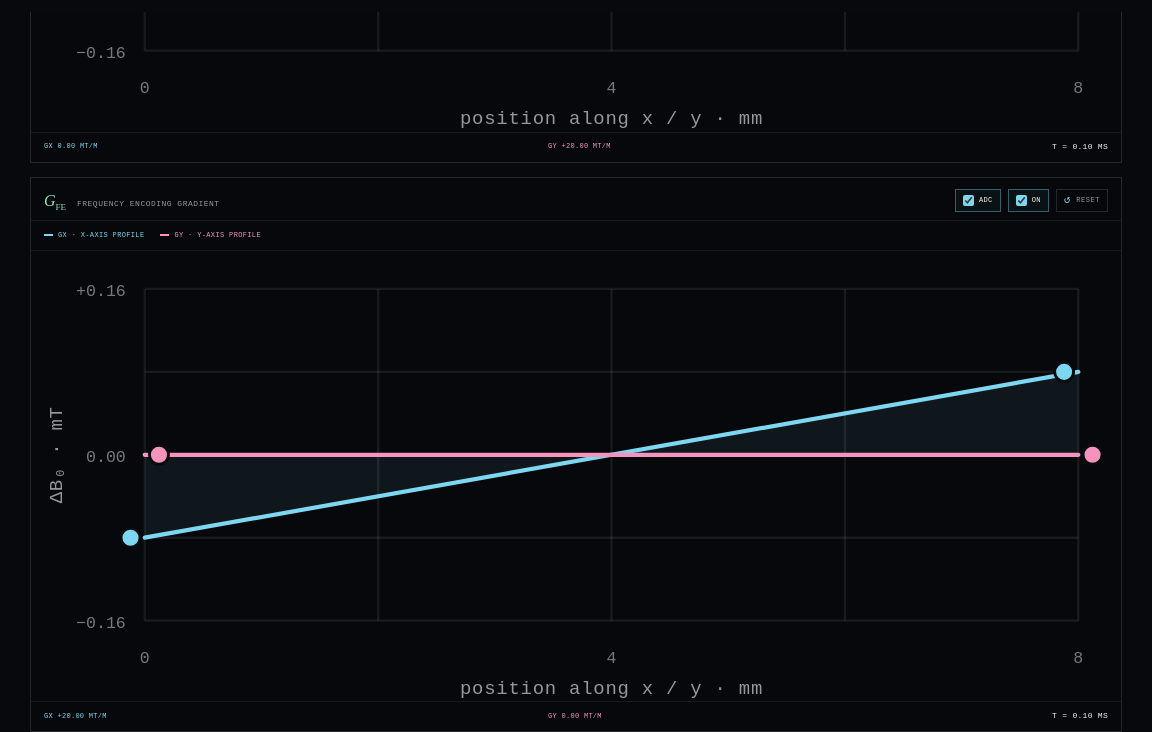
TwoDimensionalGradientEncodingExperimentPanel › resets the k-space trace and magnitude reconstruction independently
The image size is (1152, 732).
(page scrolled)
Press ArrowUp in the slider labelled "Frequency encoding G x gradient 8 millimeter endpoint", box [1038,346,1090,398]
(page scrolled)
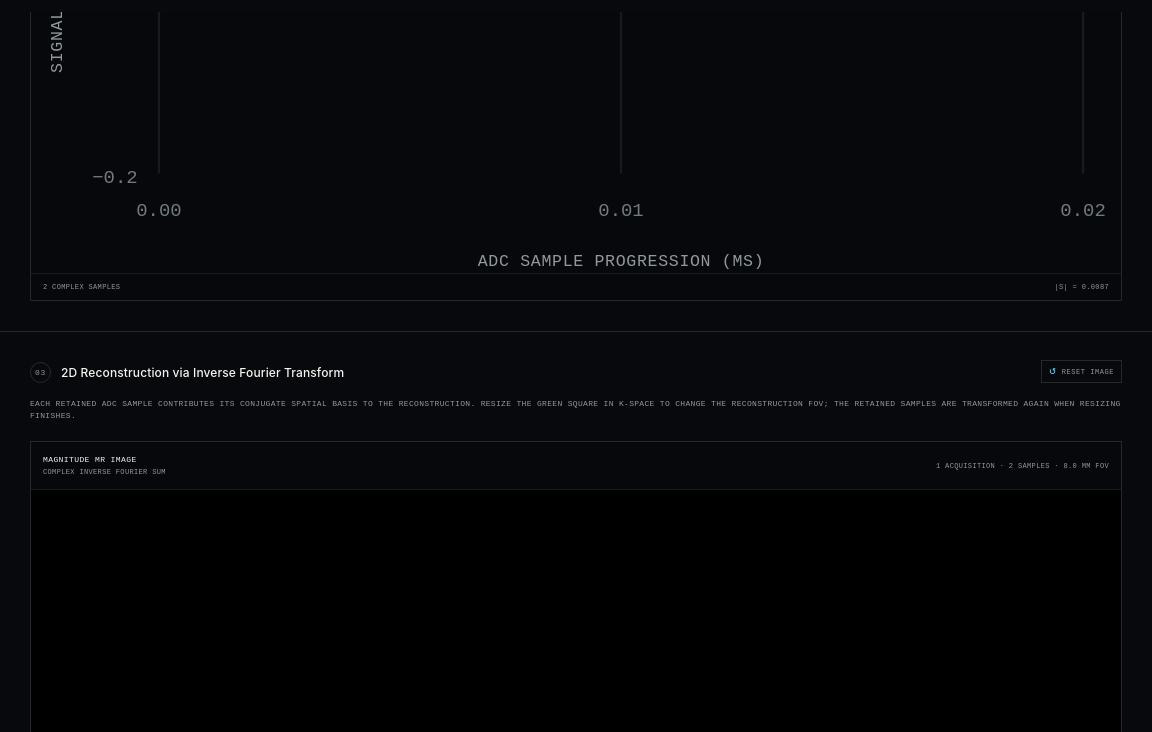
Click the button with aria-label "Reset magnitude reconstruction": (1082, 372) [1041,360,1122,383]
(page scrolled)
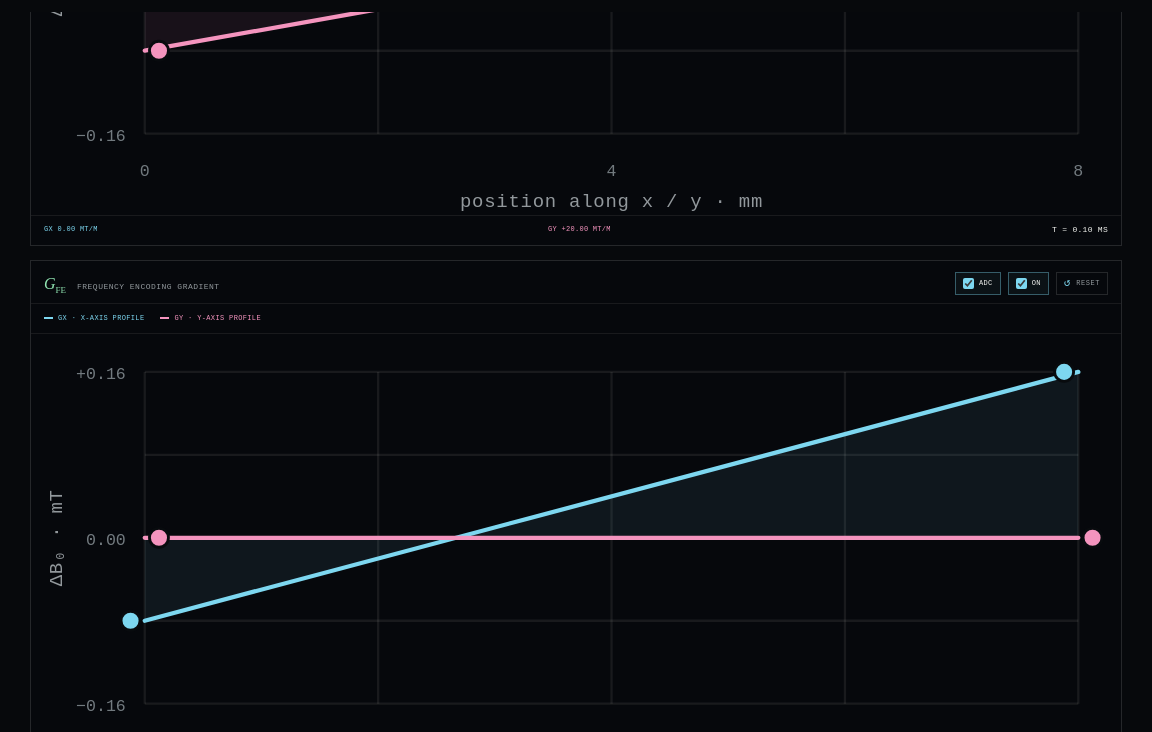
Press ArrowUp in the slider labelled "Frequency encoding G x gradient 8 millimeter endpoint", box [1038,346,1090,398]
(page scrolled)
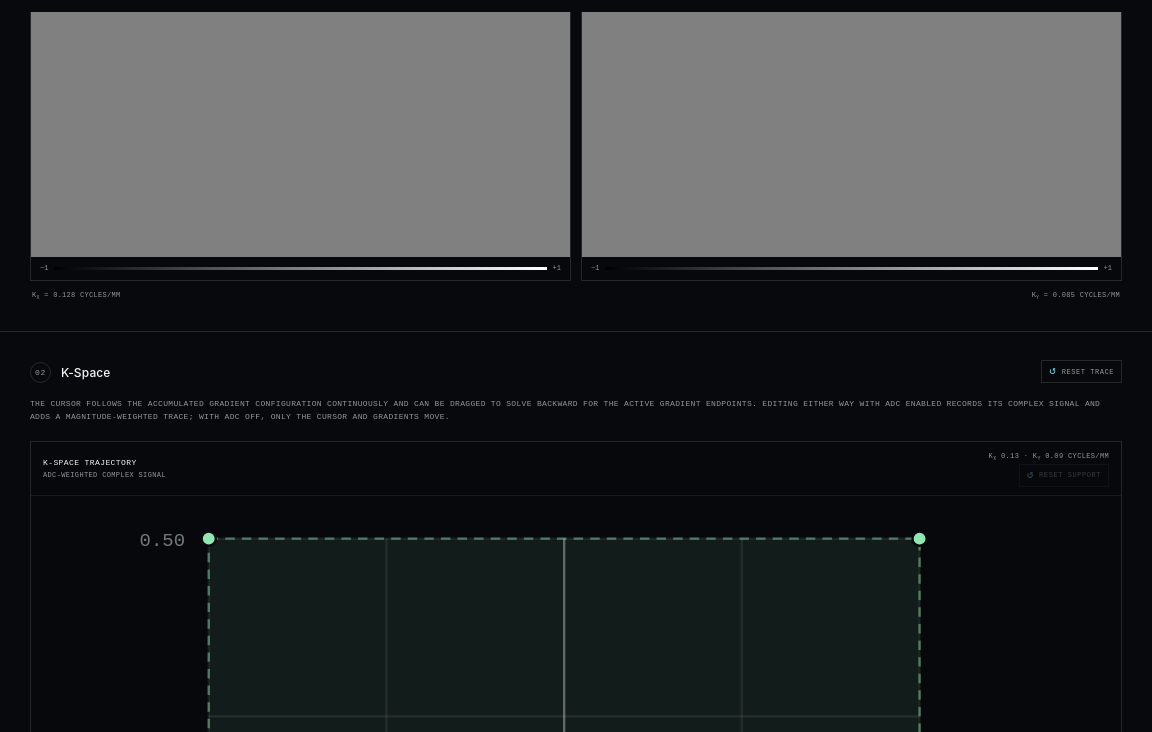
Click the button with aria-label "Reset K-space acquisition": (1082, 372) [1041,360,1122,383]
(page scrolled)
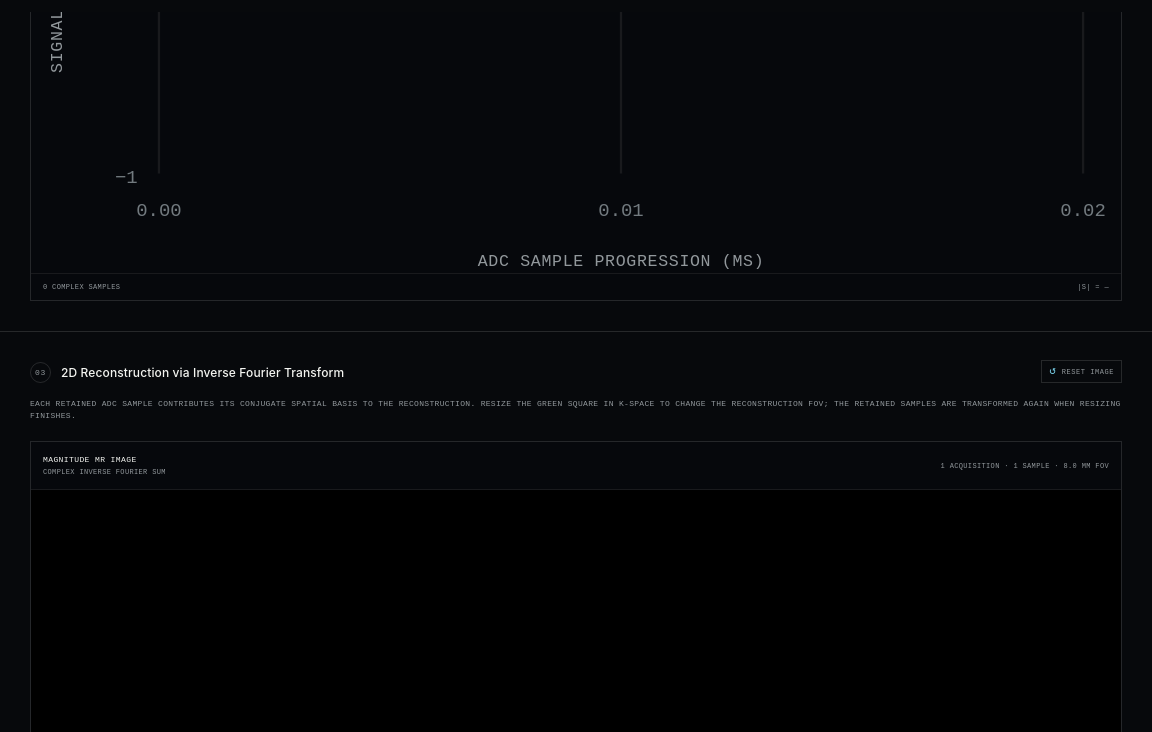
Check: the text "0 complex samples" is shown, box [43,283,120,291]
Check: the button with aria-label "Reset magnitude reconstruction" is enabled, box [1041,360,1122,383]
